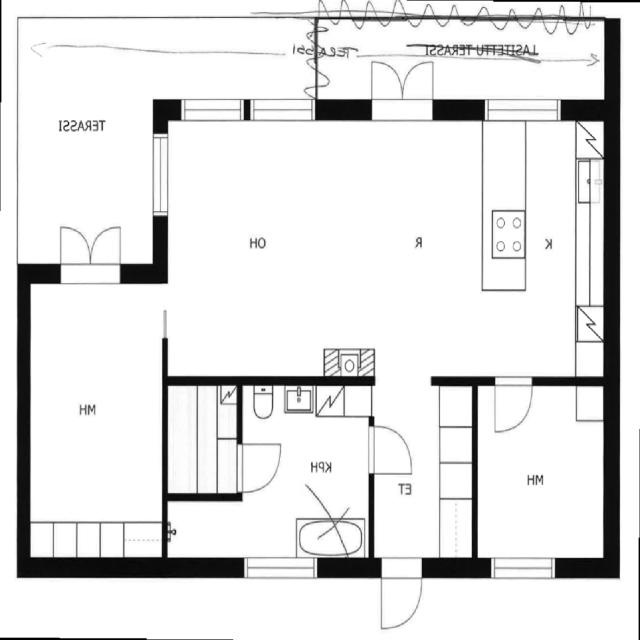door: (50, 220, 130, 280), (376, 556, 428, 636), (368, 56, 436, 117), (490, 374, 536, 436), (368, 419, 415, 477), (235, 441, 283, 495)
window: (171, 87, 250, 127), (146, 125, 176, 227), (483, 547, 561, 586), (478, 92, 566, 124), (238, 556, 324, 584), (245, 94, 318, 125)
zone: (166, 104, 611, 378), (23, 276, 163, 557), (473, 378, 609, 567), (238, 381, 374, 564), (372, 381, 474, 572), (164, 382, 240, 497)
